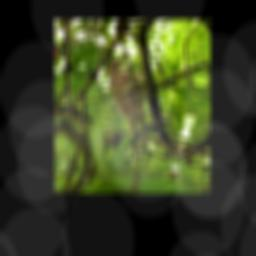Cuckoo: (83, 51, 165, 163)
